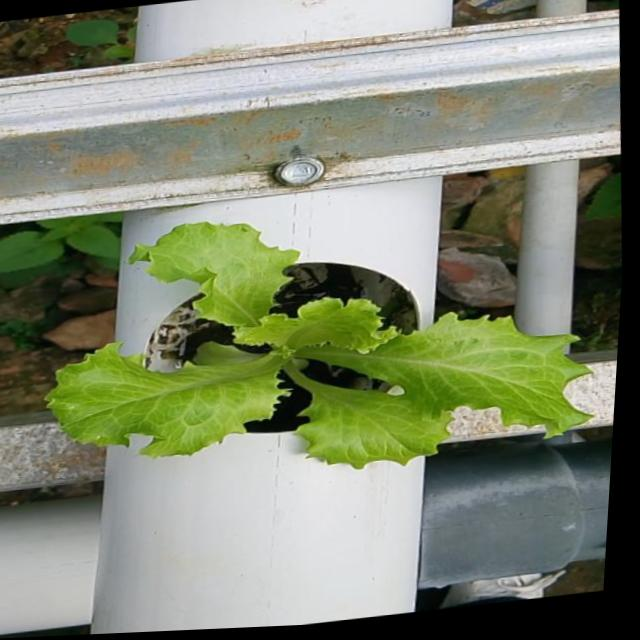Baby: (42, 221, 590, 467)
